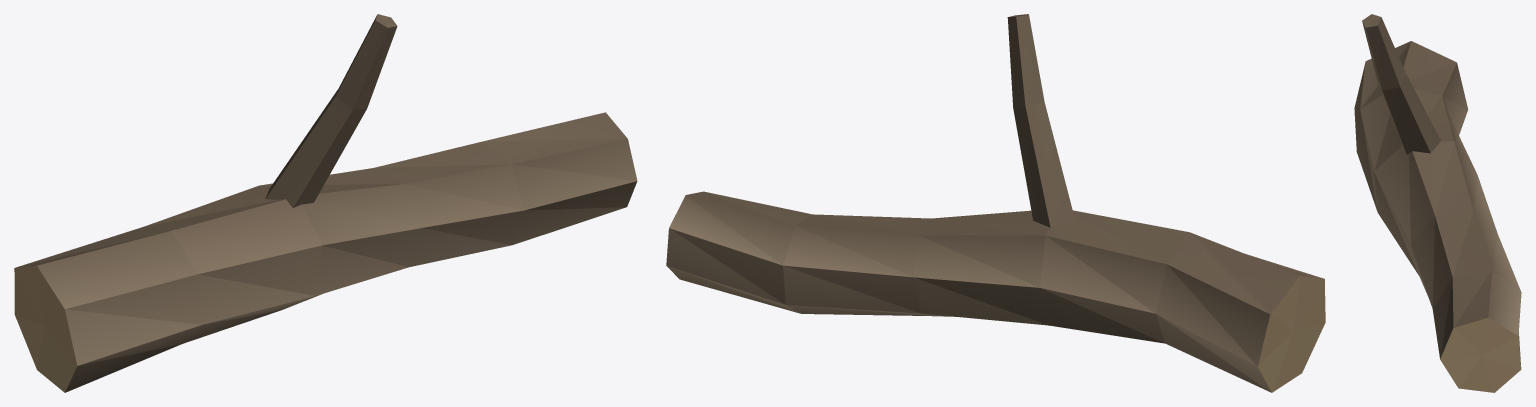
The model's file is wood.glb.
The picture shows the model from 3 angles, left to right: view 1: azimuth 30°, elevation 25°; view 2: azimuth 150°, elevation 25°; view 3: azimuth 270°, elevation 25°; orthographic projection. The views are drawn at different scales.
Visible parts, largest first — view 1: driftwood_short_solid; view 2: driftwood_short_solid; view 3: driftwood_short_solid.
Part boxes in pixels (x1,y1,x2,y2): driftwood_short_solid: (14, 14, 637, 392); driftwood_short_solid: (666, 14, 1325, 392); driftwood_short_solid: (1354, 14, 1521, 392).
Size of the model in its own units: 1.83 by 0.8898 by 0.5103.
